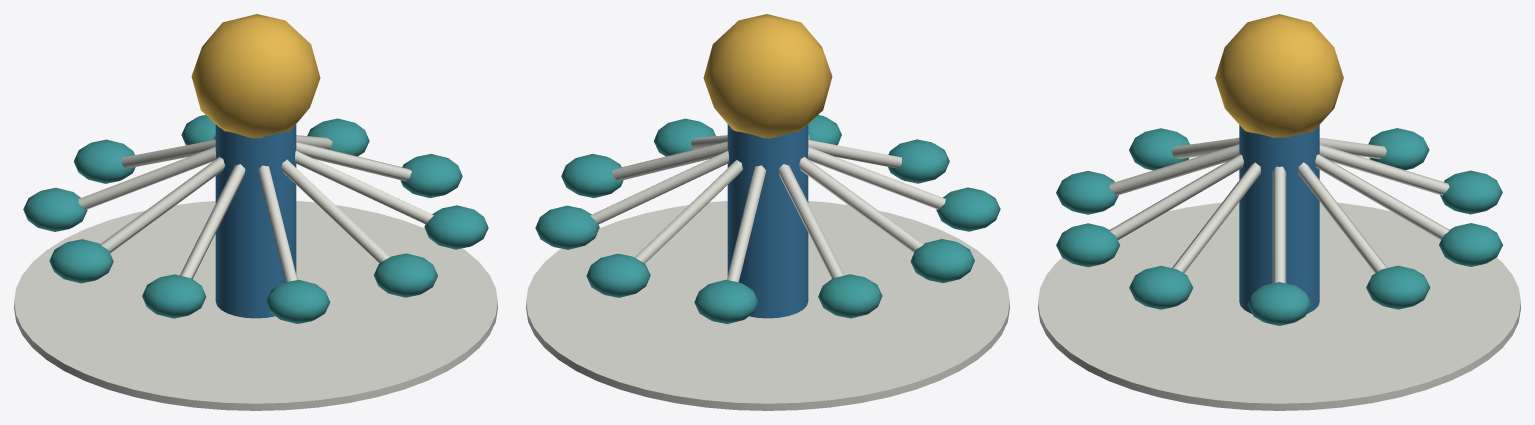
Rendered from orbital.glb.
3 views of the same model, side by side, from view 1: azimuth 30°, elevation 25°; view 2: azimuth 150°, elevation 25°; view 3: azimuth 270°, elevation 25° (orthographic).
Bounding box in the file's own units: 3.6 × 2.38 × 3.6.
